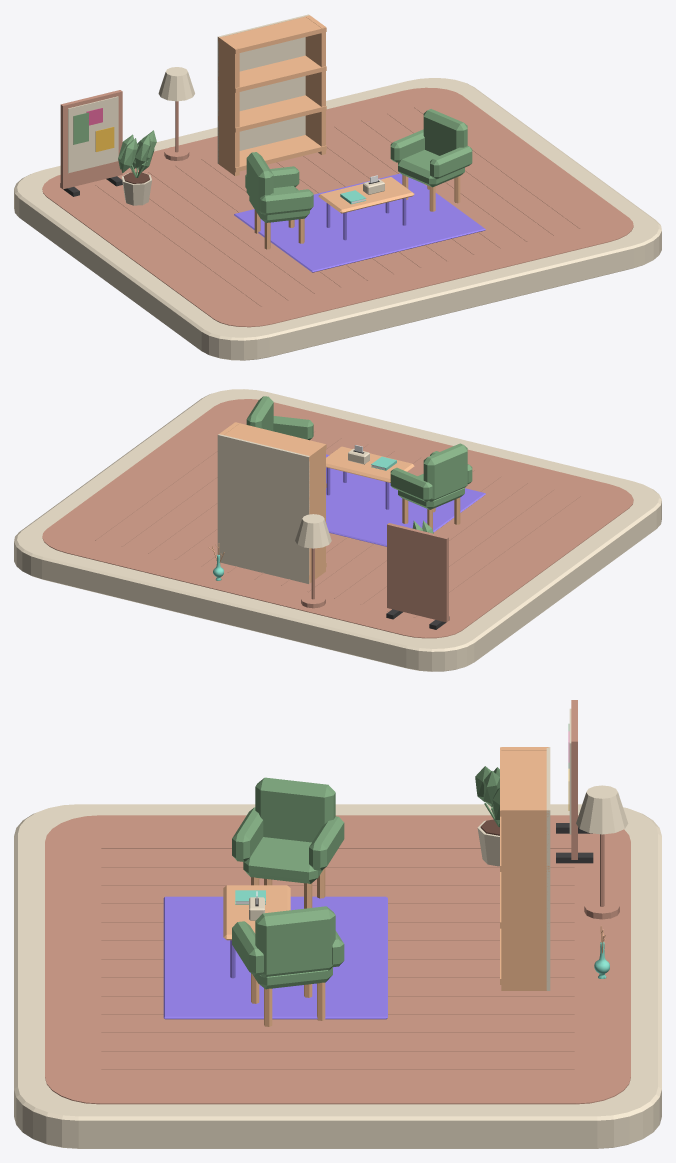
Rendered from room.fbx.
3 renders of one model, top to bottom at view 1: azimuth 30°, elevation 25°; view 2: azimuth 150°, elevation 25°; view 3: azimuth 270°, elevation 25°, orthographic. The views are drawn at different scales.
Visible parts, largest first — view 1: COM-02 Floor Surface, COM-01 Rounded Base Direct, Rug, Back.002, Side, Canvas, Panel, Pot, Side.001, Shelf.003, Shelf.001, Shelf.002 (+11 smaller); view 2: COM-02 Floor Surface, COM-01 Rounded Base Direct, Back.002, Rug, Panel, Back, Side, Shelf.003, Rounded table top, Lamp shade, Arm.001, Arm.003 (+2 smaller); view 3: COM-02 Floor Surface, COM-01 Rounded Base Direct, Rug, Side.001, Back.001, Back, Shelf.003, Cushion, Lamp shade, Pot, Rounded table top, Arm.001 (+8 smaller).
Boxes of the visible parts, x1,y1,x2,y2 form: COM-02 Floor Surface: (42, 87, 633, 327); COM-01 Rounded Base Direct: (14, 78, 661, 360); Rug: (234, 173, 485, 272); Back.002: (217, 14, 309, 163); Side: (218, 36, 239, 176); Canvas: (68, 96, 118, 173); Panel: (60, 90, 122, 189); Pot: (118, 130, 156, 205); Side.001: (305, 15, 325, 154); Shelf.003: (218, 16, 326, 53); Shelf.001: (218, 95, 326, 132); Shelf.002: (218, 55, 326, 92); COM-02 Floor Surface: (42, 399, 633, 638); COM-01 Rounded Base Direct: (14, 389, 661, 671); Back.002: (217, 434, 309, 583); Rug: (326, 454, 485, 546); Panel: (387, 523, 448, 622); Back: (423, 443, 467, 501); Side: (305, 443, 325, 583); Shelf.003: (224, 422, 326, 461); Rounded table top: (326, 446, 414, 482); Lamp shade: (295, 514, 331, 548); Arm.001: (390, 467, 432, 501); Arm.003: (273, 416, 313, 440); COM-02 Floor Surface: (45, 815, 630, 1104); COM-01 Rounded Base Direct: (14, 804, 661, 1148); Rug: (163, 896, 387, 1019); Side.001: (501, 807, 548, 990); Back.001: (255, 906, 335, 977); Back: (255, 777, 335, 842); Shelf.003: (500, 747, 548, 816); Cushion: (243, 837, 322, 883); Lamp shade: (576, 785, 628, 834); Pot: (475, 766, 499, 866); Rounded table top: (223, 885, 290, 940); Arm.001: (309, 816, 344, 870).
Size of the model in its own units: 600 by 190 by 520.
